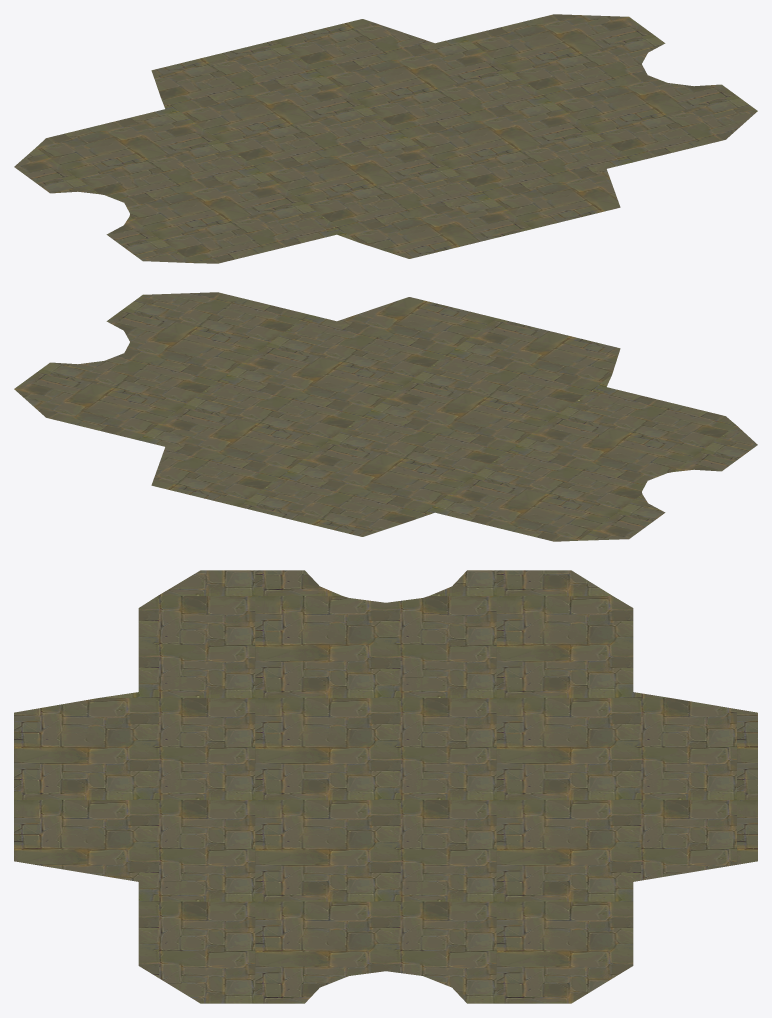
File: Yx_dizhuan02.FBX
3 views of the same model, one above another, from view 1: azimuth 30°, elevation 25°; view 2: azimuth 150°, elevation 25°; view 3: azimuth 270°, elevation 25° (orthographic). The views are drawn at different scales.
Visible parts, largest first — view 1: Yx_dizhuan02_001; view 2: Yx_dizhuan02_001; view 3: Yx_dizhuan02_001.
Part boxes in pixels (<box>): Yx_dizhuan02_001: <box>14,14,757,263</box>; Yx_dizhuan02_001: <box>14,292,757,541</box>; Yx_dizhuan02_001: <box>14,570,757,1003</box>.
Size of the model in its own units: 38815 by 0.00123 by 28183.
1 material, 1 textured.
